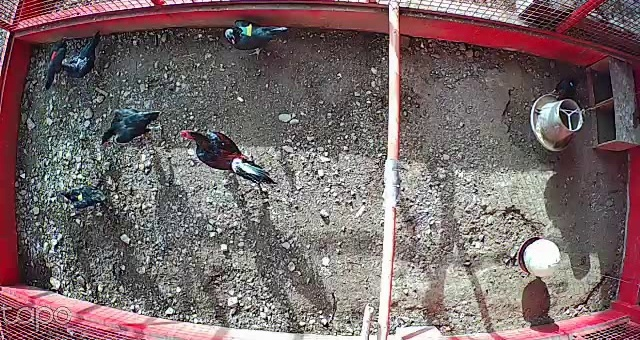Chicken: (219, 15, 294, 62), (99, 99, 164, 148), (61, 30, 109, 82), (43, 34, 75, 90), (55, 180, 106, 214), (547, 67, 589, 106)
Rooster: (175, 123, 275, 183)
Saddle_Color_Red: (52, 51, 57, 60)
Saddle_Color_Yellow: (78, 194, 85, 201)
Saddle_Color_YellowGreen: (239, 21, 253, 37)
